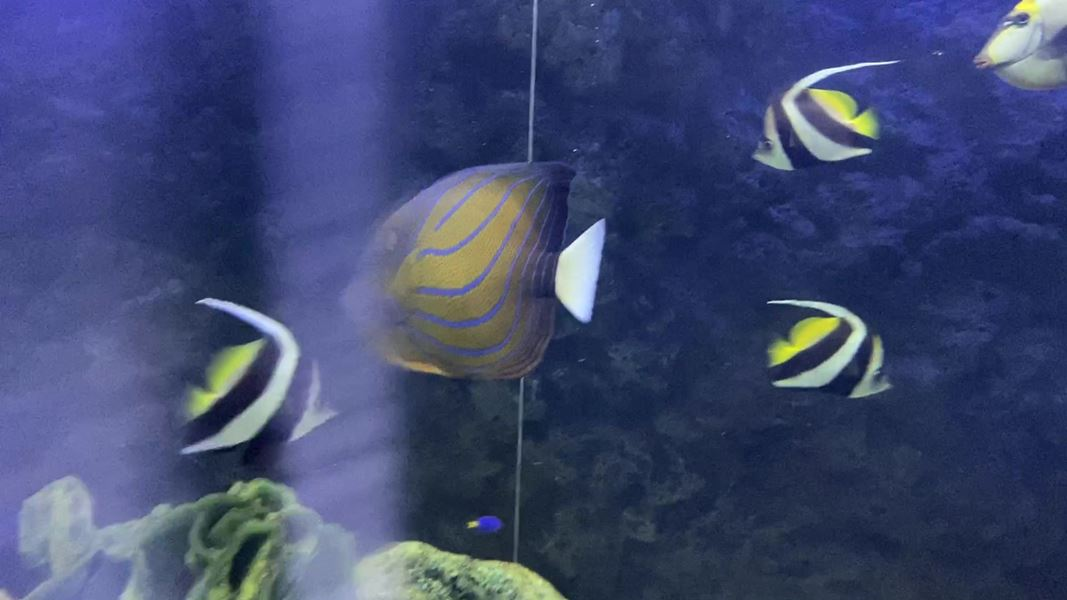Blue ring angelfish: (327, 148, 632, 418)
